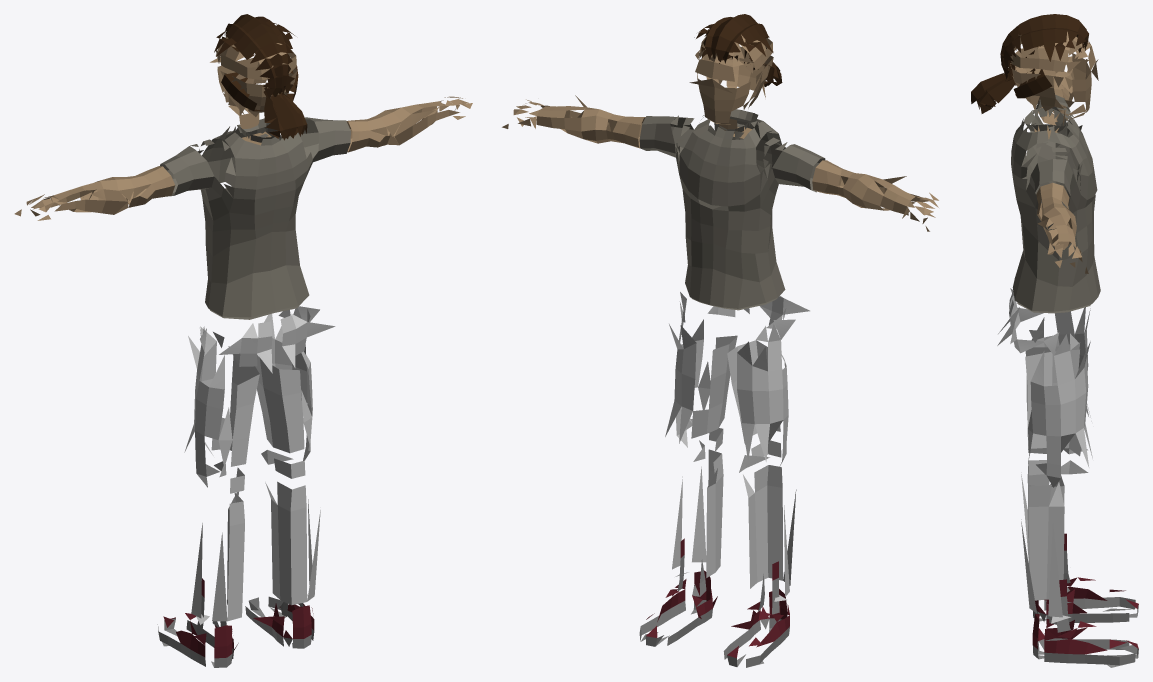
Rendered from person_9_sit.fbx.
3 renders of one model, left to right at view 1: azimuth 30°, elevation 25°; view 2: azimuth 150°, elevation 25°; view 3: azimuth 270°, elevation 25°, orthographic. The views are drawn at different scales.
Visible parts, largest first — view 1: Casual2_Feet; view 2: Casual2_Feet; view 3: Casual2_Feet.
Boxes of the visible parts, x1,y1,x2,y2 form: Casual2_Feet: [14, 14, 472, 667]; Casual2_Feet: [502, 14, 938, 667]; Casual2_Feet: [971, 14, 1138, 667].
Size of the model in its own units: 0.754 by 1.03 by 0.2503.
